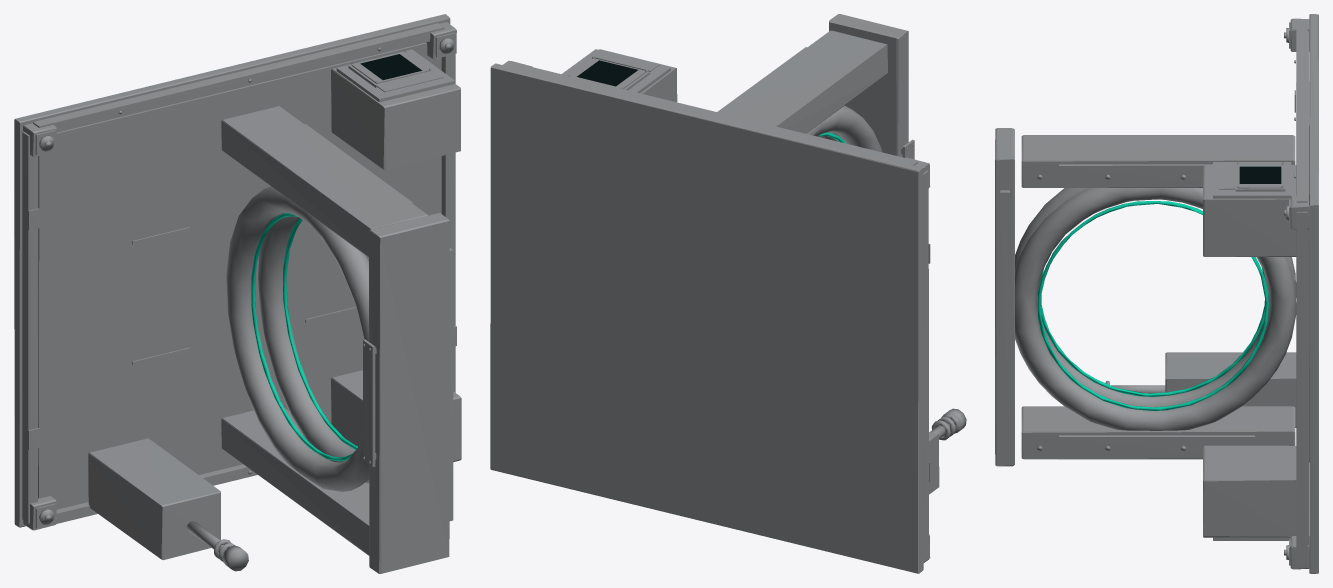
The model's file is SM_TeleporterTravelHub_LOD2.obj.
3 renders of one model, left to right at view 1: azimuth 30°, elevation 25°; view 2: azimuth 150°, elevation 25°; view 3: azimuth 270°, elevation 25°, orthographic. The views are drawn at different scales.
Parts seen in each view (by area): view 1: SM_TeleporterTravelHub.001; view 2: SM_TeleporterTravelHub.001; view 3: SM_TeleporterTravelHub.001.
Boxes of the visible parts, x1,y1,x2,y2 form: SM_TeleporterTravelHub.001: (14,14,461,573); SM_TeleporterTravelHub.001: (490,14,966,573); SM_TeleporterTravelHub.001: (995,14,1318,573).
Size of the model in its own units: 599 by 539 by 429.
